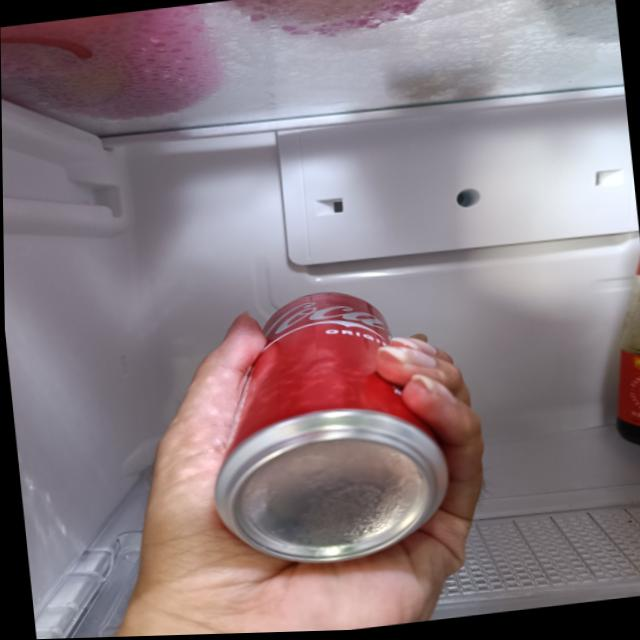coke: (200, 282, 456, 576)
